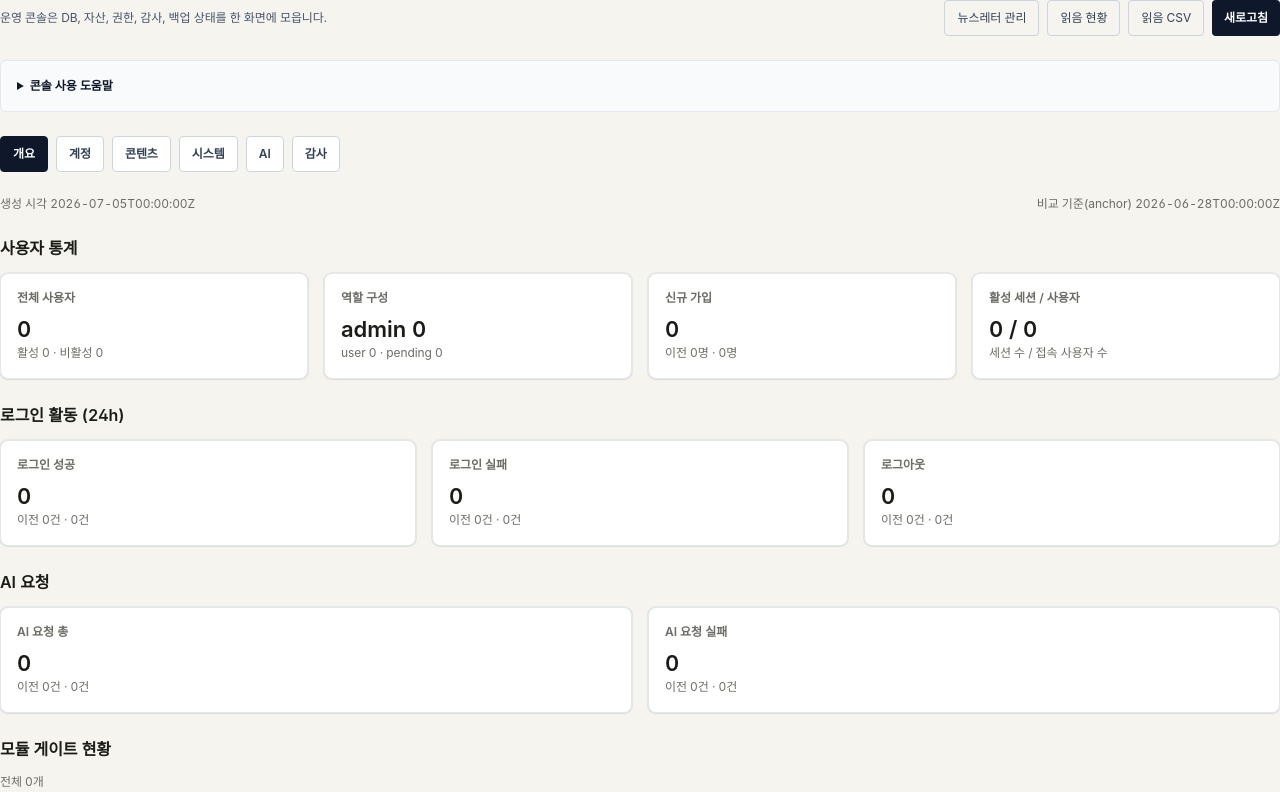
세션 tab preserves its own retry error when a sibling resource also fails
Click the tab "계정".
click(80, 154)  # box [56,136,104,172]
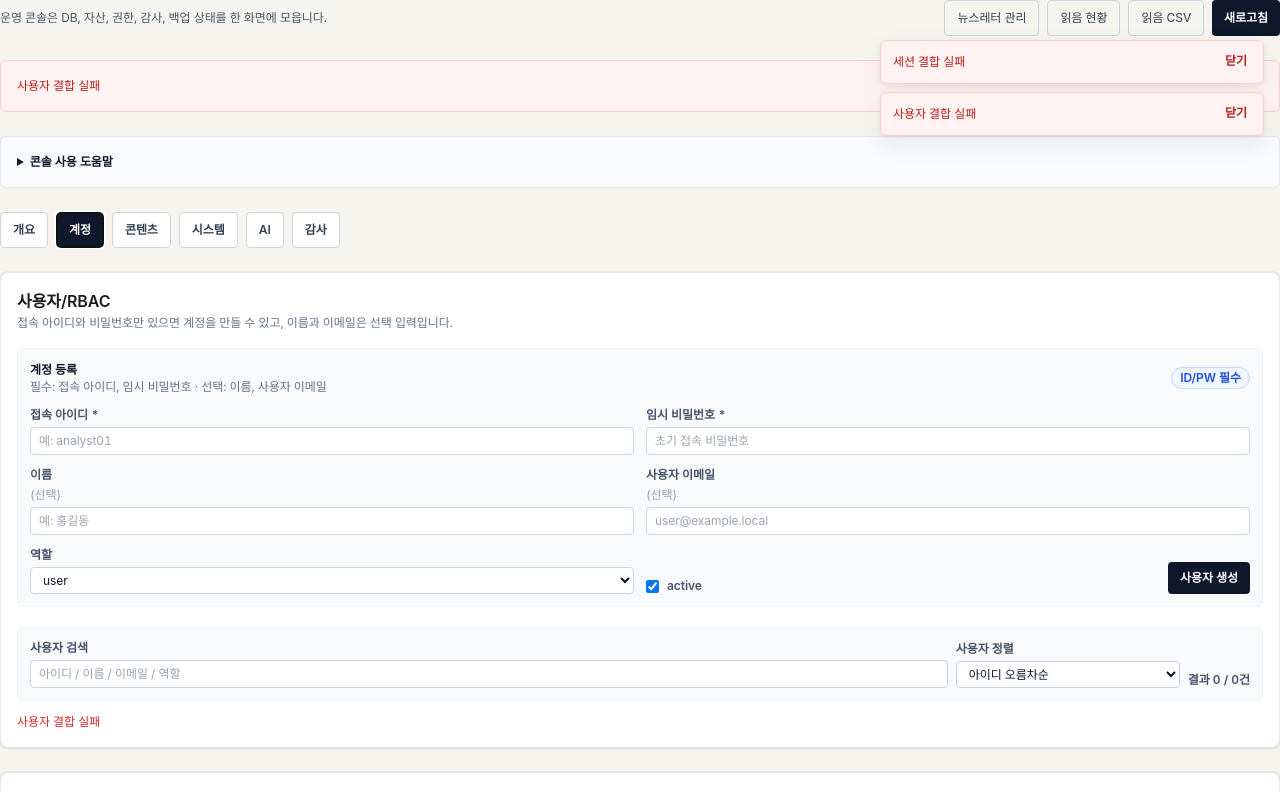
Result: the text "세션 결합 실패" is shown at [893,53,965,71]
Result: the 1st text "사용자 결합 실패" is shown at [0,60,1279,112]
